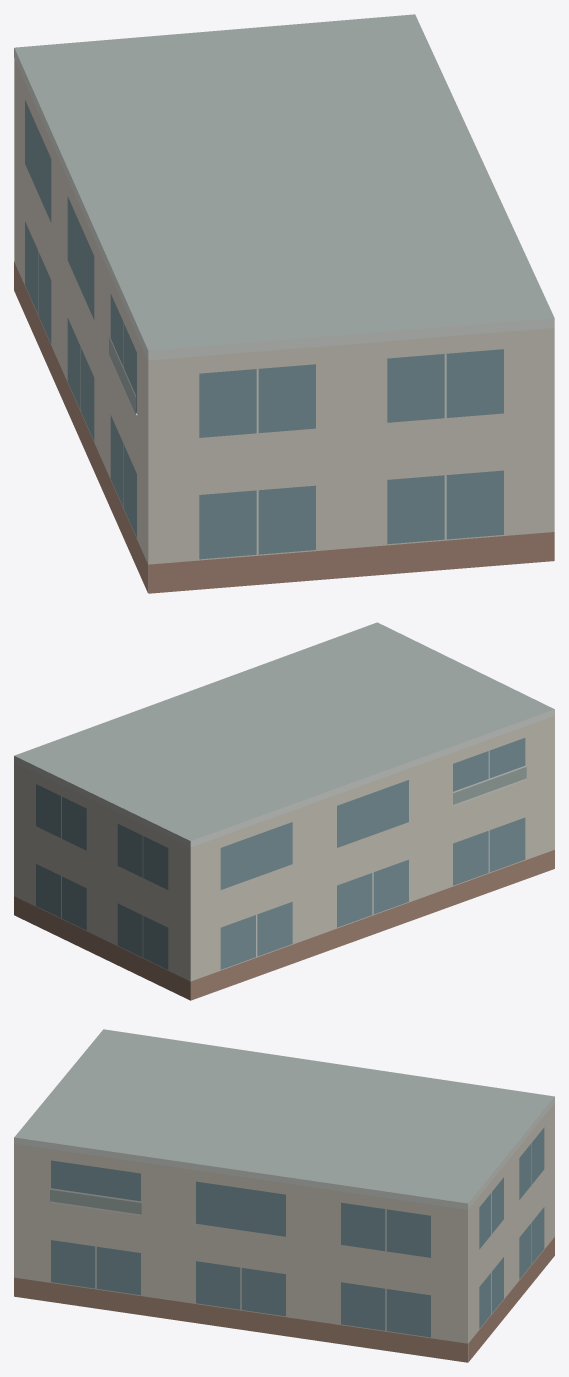
Rendered from survey-upis-32872174.glb.
3 renders of one model, top to bottom at view 1: azimuth 30°, elevation 25°; view 2: azimuth 150°, elevation 25°; view 3: azimuth 270°, elevation 25°, orthographic. The views are drawn at different scales.
Visible parts, largest first — view 1: survey-upis-32872174.tmp; view 2: survey-upis-32872174.tmp; view 3: survey-upis-32872174.tmp.
Boxes of the visible parts, x1,y1,x2,y2 form: survey-upis-32872174.tmp: (14, 14, 554, 593); survey-upis-32872174.tmp: (14, 622, 554, 1000); survey-upis-32872174.tmp: (14, 1029, 554, 1362).
Size of the model in its own units: 14.34 by 6.1 by 18.79.
